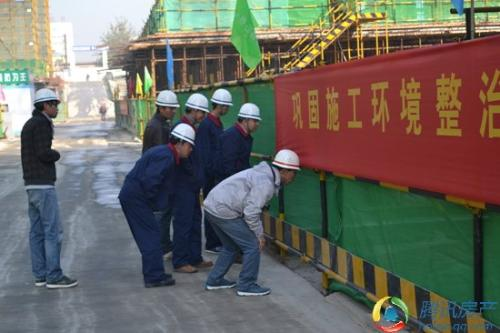boots: (237, 282, 272, 295), (46, 274, 78, 287), (145, 274, 175, 287), (205, 278, 236, 290), (173, 263, 198, 272), (193, 260, 213, 268), (205, 246, 224, 254), (34, 276, 46, 286)
hard-hat: (270, 148, 301, 170), (169, 123, 196, 146), (185, 92, 210, 112), (155, 89, 181, 107), (237, 102, 262, 120), (33, 87, 61, 103), (210, 87, 233, 105)
person: (203, 149, 302, 297), (118, 122, 200, 288), (20, 88, 79, 288), (168, 93, 212, 269), (218, 102, 263, 262), (141, 89, 181, 257), (195, 87, 234, 255), (218, 102, 263, 178)
ppe-suit: (117, 122, 204, 286)
